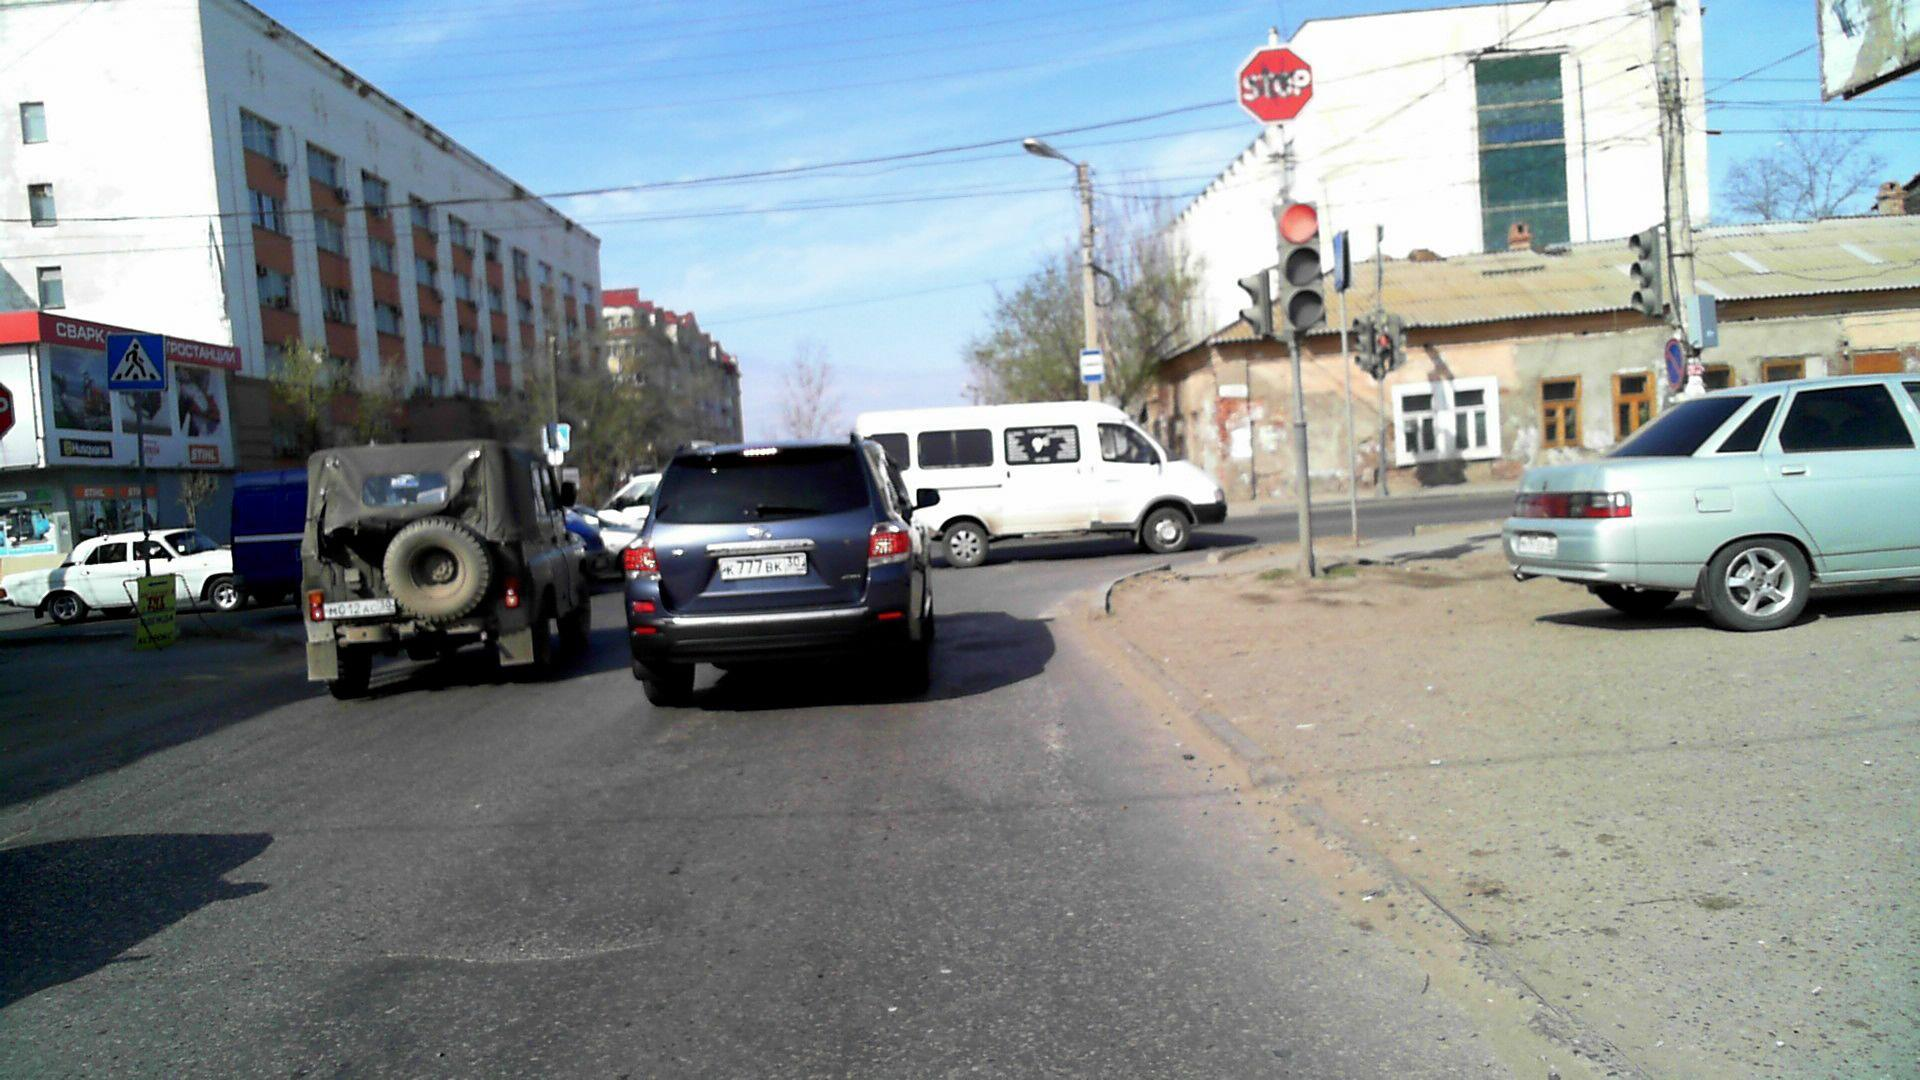2_5: (1238, 51, 1320, 127)
3_28: (1655, 339, 1687, 389)
5_16: (1076, 345, 1118, 398)
5_19_2: (109, 328, 166, 394), (542, 422, 571, 454)
